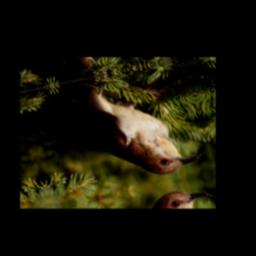Cuckoo: (29, 68, 205, 199)
